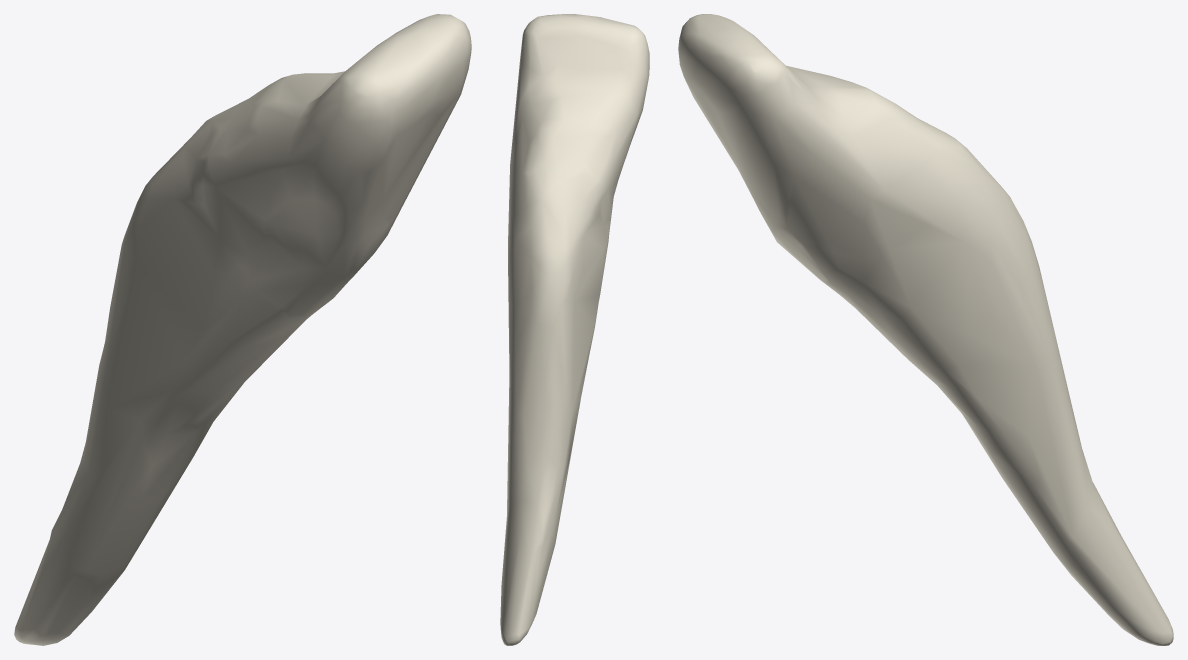
3 renders of one model, left to right at view 1: azimuth 30°, elevation 25°; view 2: azimuth 150°, elevation 25°; view 3: azimuth 270°, elevation 25°, orthographic. The views are drawn at different scales.
Parts seen in each view (by area): view 1: ZA_c100f215d9cdac53; view 2: ZA_c100f215d9cdac53; view 3: ZA_c100f215d9cdac53.
Boxes of the visible parts, x1,y1,x2,y2 form: ZA_c100f215d9cdac53: [14, 14, 471, 645]; ZA_c100f215d9cdac53: [500, 14, 649, 645]; ZA_c100f215d9cdac53: [678, 14, 1173, 645].
Bounding box in the file's own units: 0.00769 × 0.0245 × 0.0164.
